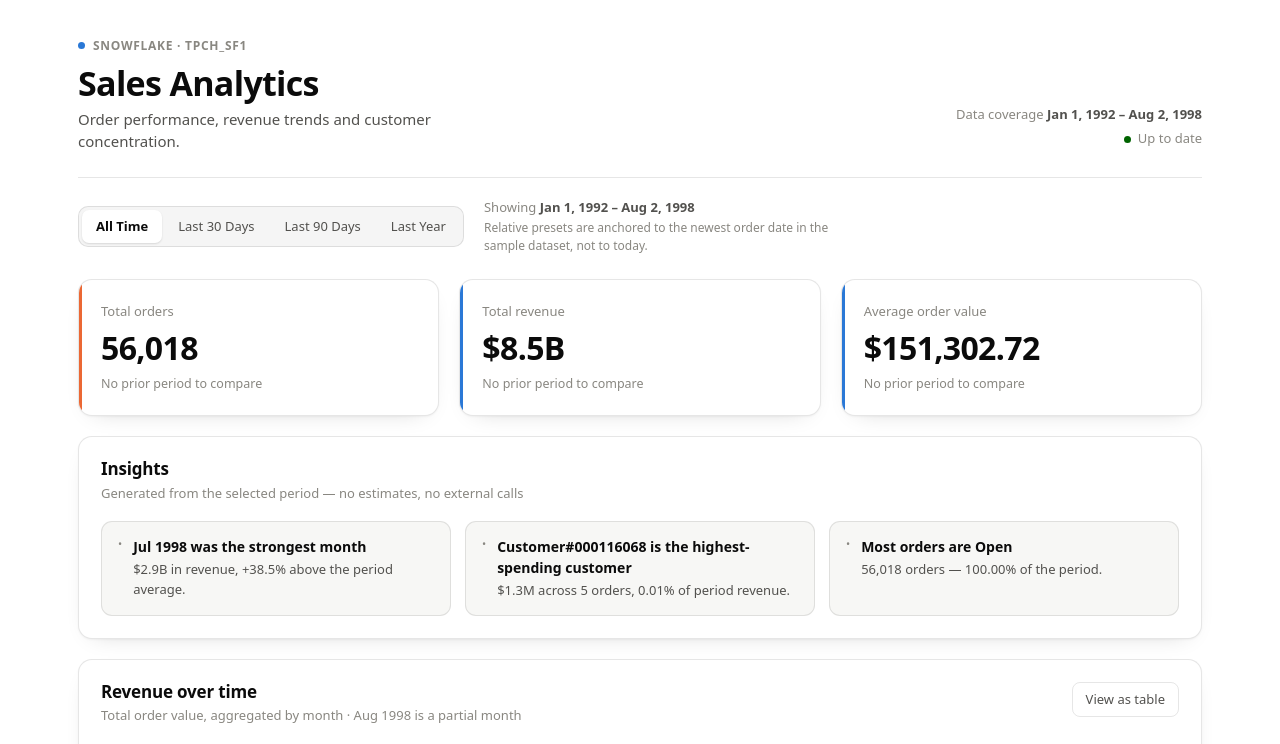
Test: App › date filtering › shows period-over-period deltas only when a prior window exists
The width and height of the screenshot is (1280, 744).
Expected: the text "No prior period to compare" is shown 3 times, [101,375,262,392]; [482,375,644,392]; [864,375,1025,392]
Click the button "Last 90 Days": click(323, 227) [270,210,375,243]
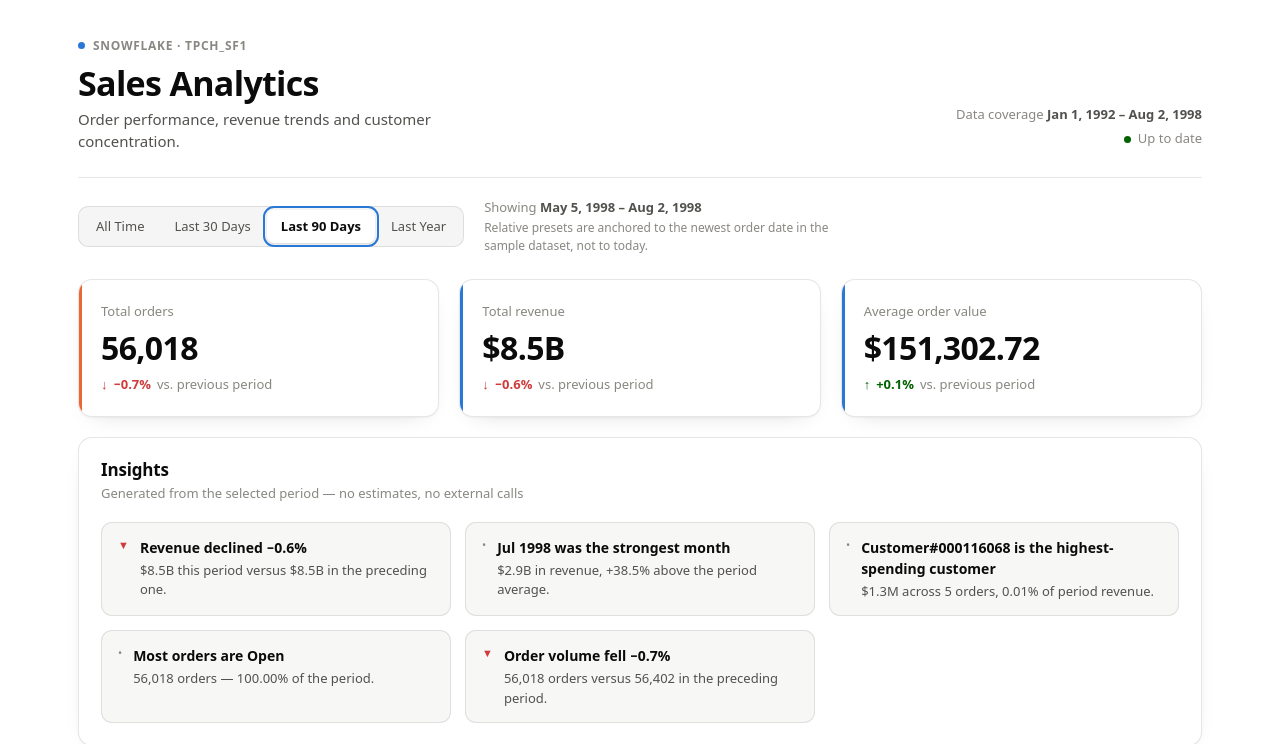
Expected: the text "vs. previous period" is shown 3 times, [157,375,272,394]; [538,375,654,394]; [920,375,1035,394]
Expected: the text "−0.6%" is shown, [495,375,532,394]
